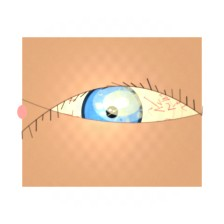corneal_ulcer: (91, 79, 153, 128)
